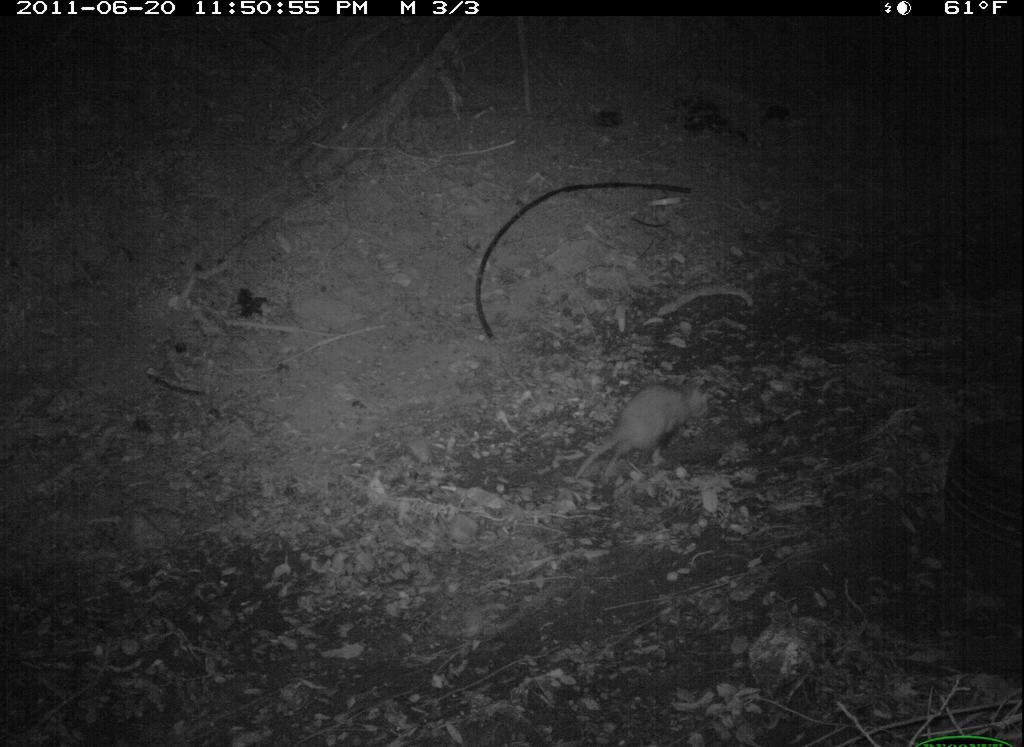opossum: (559, 349, 737, 477)
